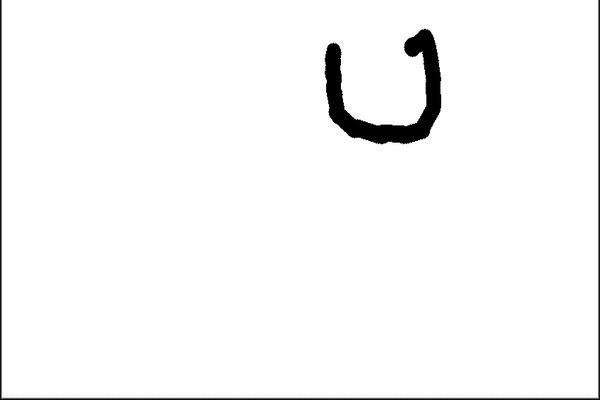U: (314, 21, 447, 153)
